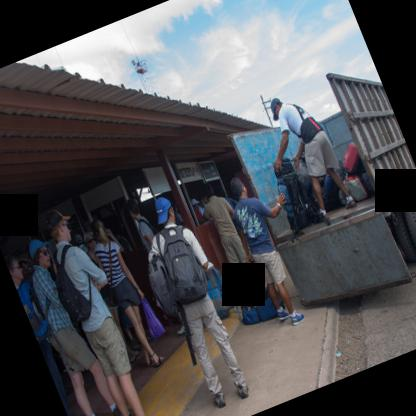backpack: (158, 224, 209, 365), (274, 157, 330, 235), (53, 244, 91, 321), (147, 231, 179, 319), (17, 276, 50, 342), (204, 267, 243, 322), (139, 214, 159, 235)
handbag: (240, 285, 277, 324)
suitcase: (339, 172, 368, 205), (341, 141, 360, 174), (360, 168, 374, 195), (323, 172, 336, 197)
